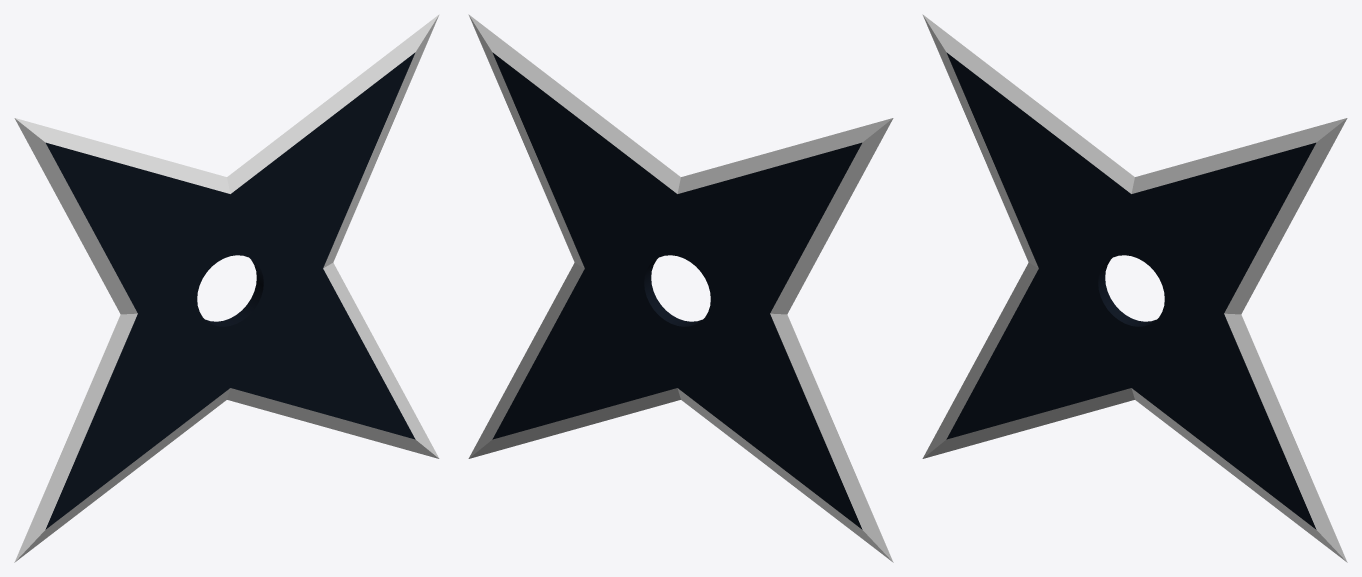
Rendered from scene_XnbR9Oe1WH.glb.
3 views of the same model, side by side, from view 1: azimuth 30°, elevation 25°; view 2: azimuth 150°, elevation 25°; view 3: azimuth 330°, elevation 25° (orthographic).
Visible parts, largest first — view 1: Shuriken_11; view 2: Shuriken_11; view 3: Shuriken_11.
Part boxes in pixels (x1=…): Shuriken_11: x1=14, y1=14, x2=439, y2=562; Shuriken_11: x1=468, y1=14, x2=893, y2=562; Shuriken_11: x1=922, y1=14, x2=1347, y2=562.
Size of the model in its own units: 1.75 by 1.75 by 0.0503.
